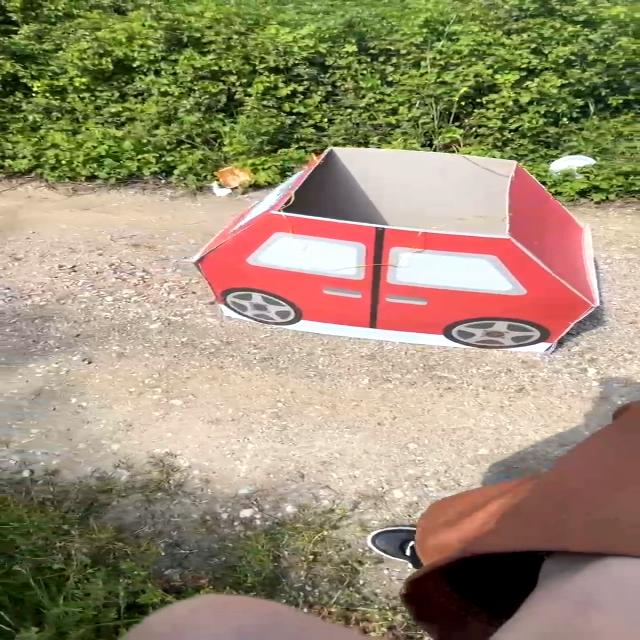red_car: (176, 130, 640, 360)
